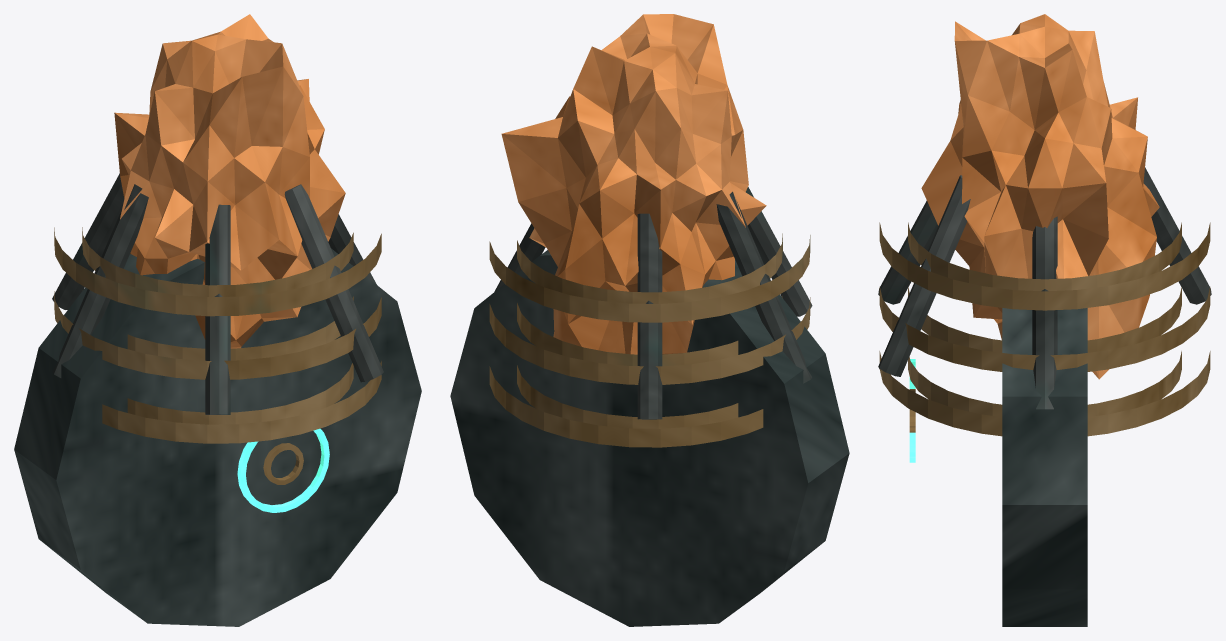
File: 0981_offering_relic_06.glb
3 renders of one model, left to right at view 1: azimuth 30°, elevation 25°; view 2: azimuth 150°, elevation 25°; view 3: azimuth 270°, elevation 25°, orthographic. The views are drawn at different scales.
Parts seen in each view (by area): view 1: stone_dark, amber, brass, iron, glow; view 2: stone_dark, amber, brass, iron; view 3: amber, brass, stone_dark, iron.
Part boxes in pixels (x1,y1,x2,y2): stone_dark: (14,248,421,626); amber: (114,14,345,348); brass: (54,227,381,484); iron: (52,173,383,414); glow: (237,428,329,512); stone_dark: (450,250,849,626); amber: (501,14,766,354); brass: (489,233,810,447); iron: (494,187,812,419); amber: (921,14,1159,379); brass: (879,222,1210,436); stone_dark: (1002,308,1087,626); iron: (878,167,1211,409).
Size of the model in its own units: 0.9 by 1.37 by 0.7056.
5 materials, 5 textured.
